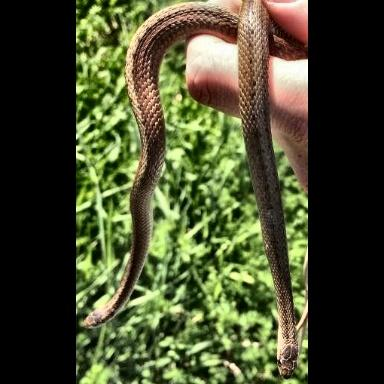snake: (76, 3, 302, 379)
